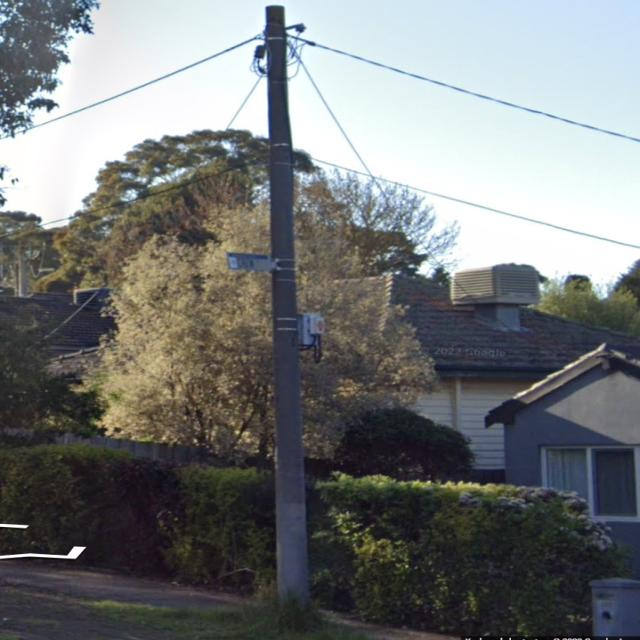timber-pole: (264, 4, 312, 626)
top mount suitable pole: (264, 4, 322, 626)
